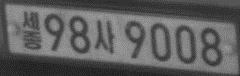0: (174, 24, 197, 64), (150, 21, 172, 62)
8: (199, 27, 223, 67), (68, 14, 91, 53)
9: (124, 19, 146, 59), (43, 12, 65, 51)
사: (93, 19, 115, 53)
세종_V: (21, 10, 43, 50)
